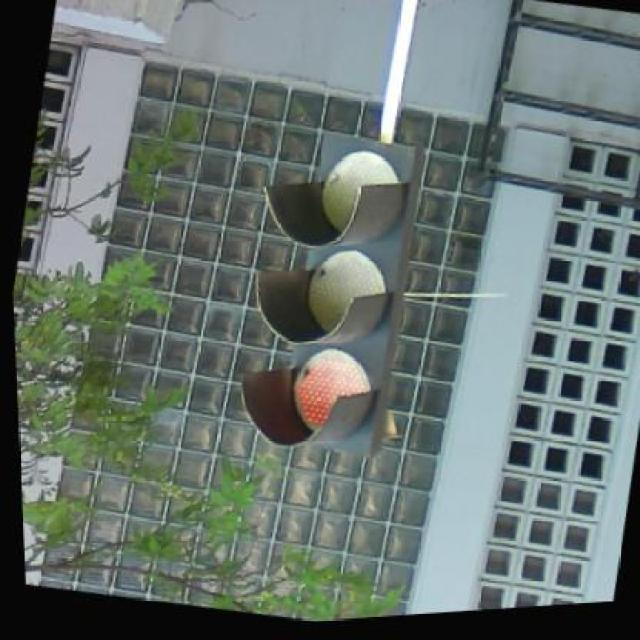Traffic Light -Red-: (214, 114, 437, 471)
